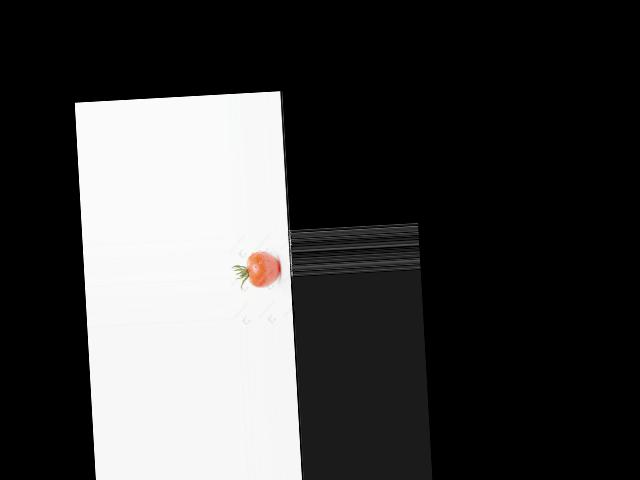tomato: (246, 251, 281, 289)
